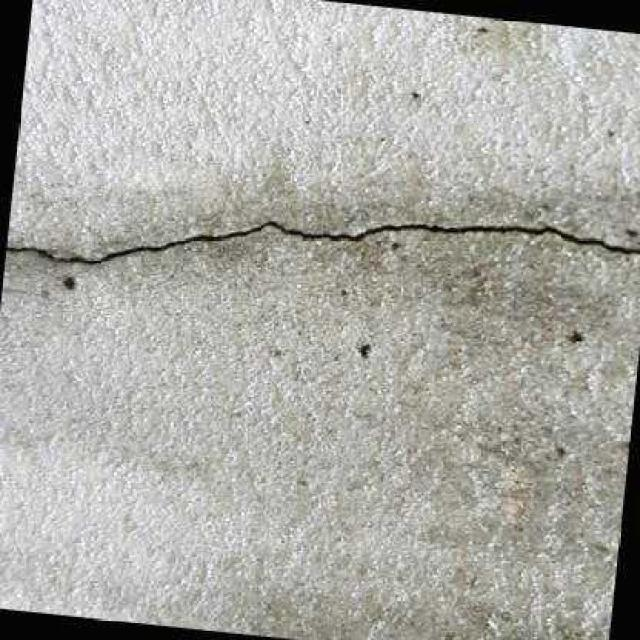D00: (6, 219, 640, 262)
